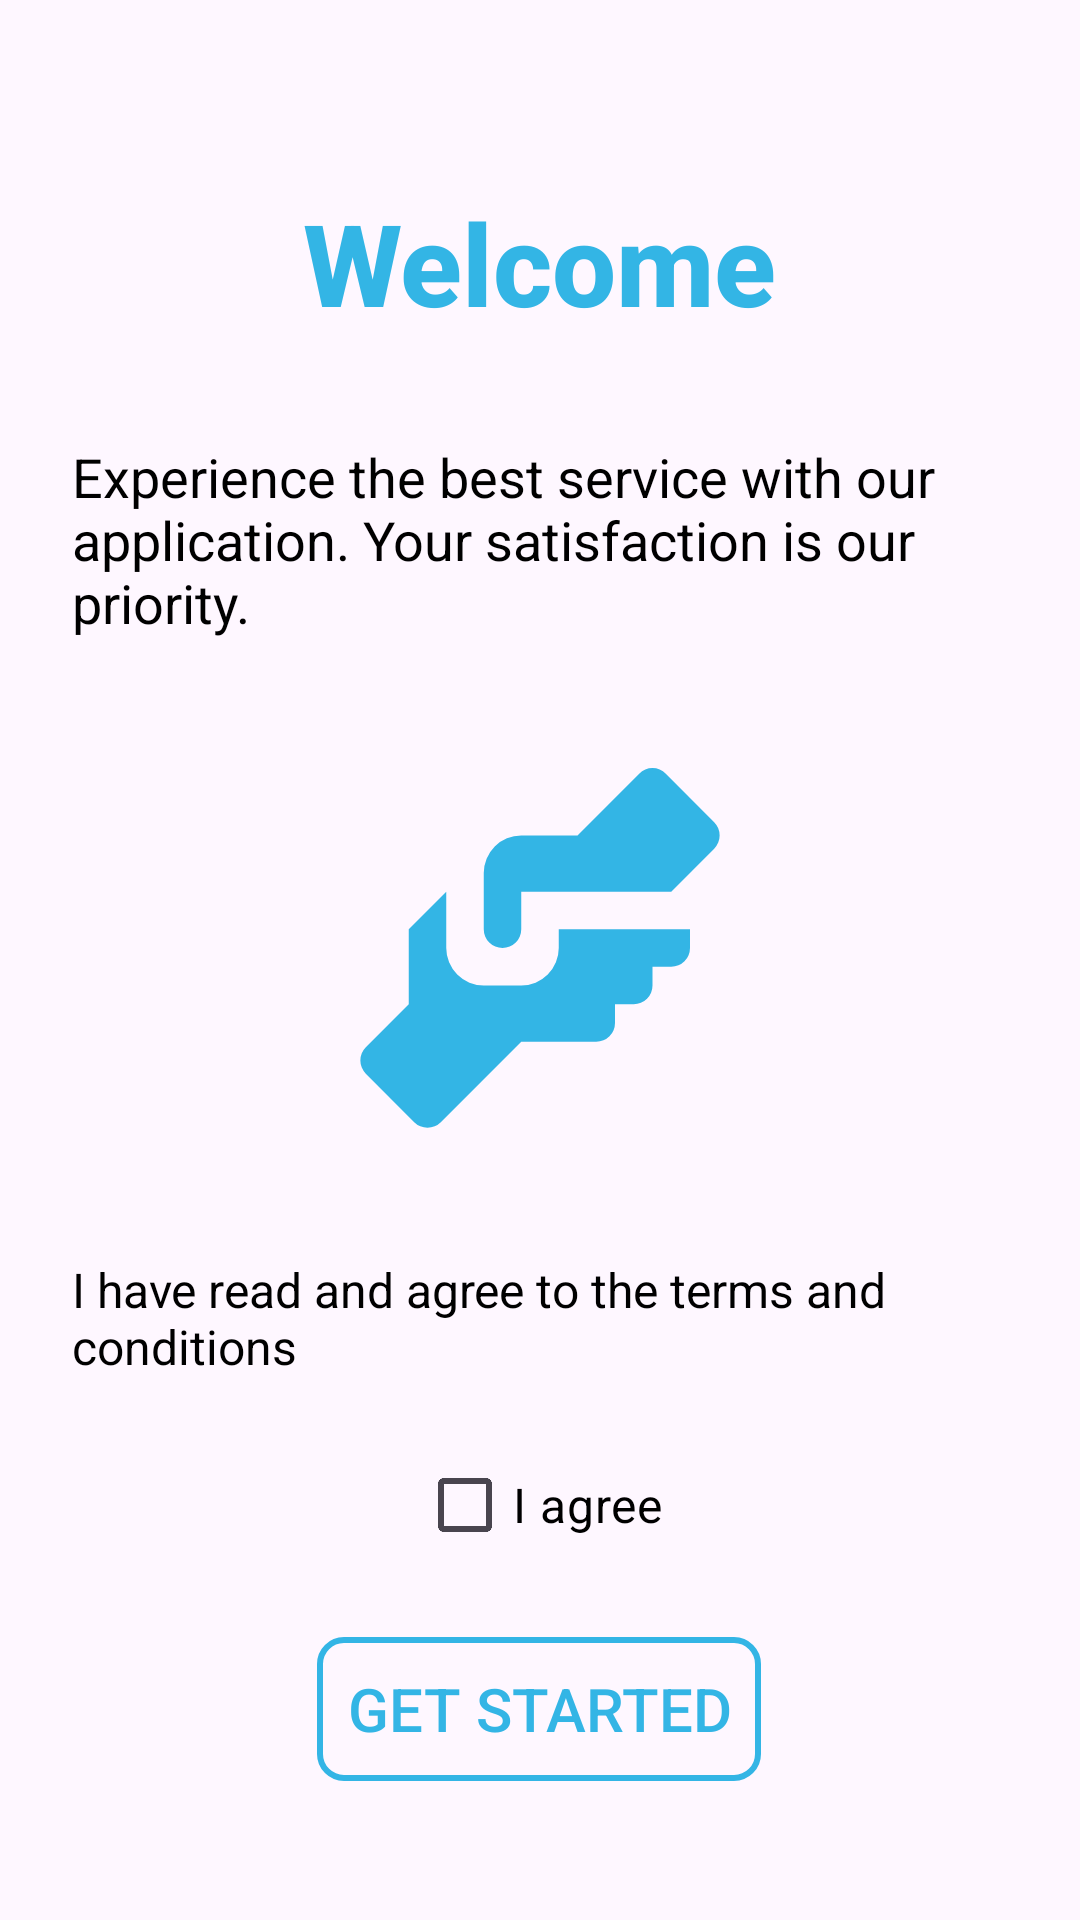

Where icons sit on this 1080x1920 app screen, as (x1, y1, x2, y2):
handshake: (360, 768, 720, 1128)
